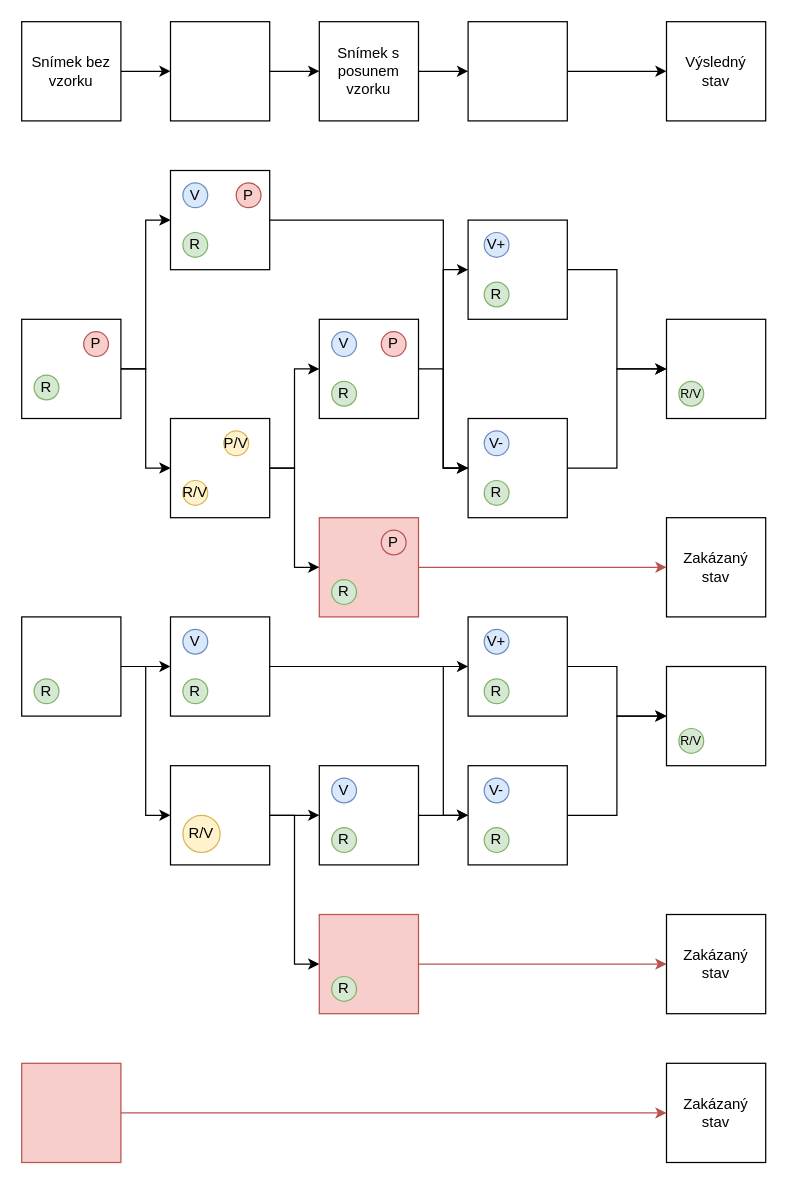
Some shapes in this 787 by 1184 pixel diagram are drawn without their labels. The shapes that lost their labels are listed below. From the top down, each one's centre as x and y in pixels, then its label:
At pixel 219 70: "Snímek se vzorkem".
At pixel 517 70: "Snímek s posunem vzorku po ose Z".
At pixel 70 1112: "Prázdný snímek".
